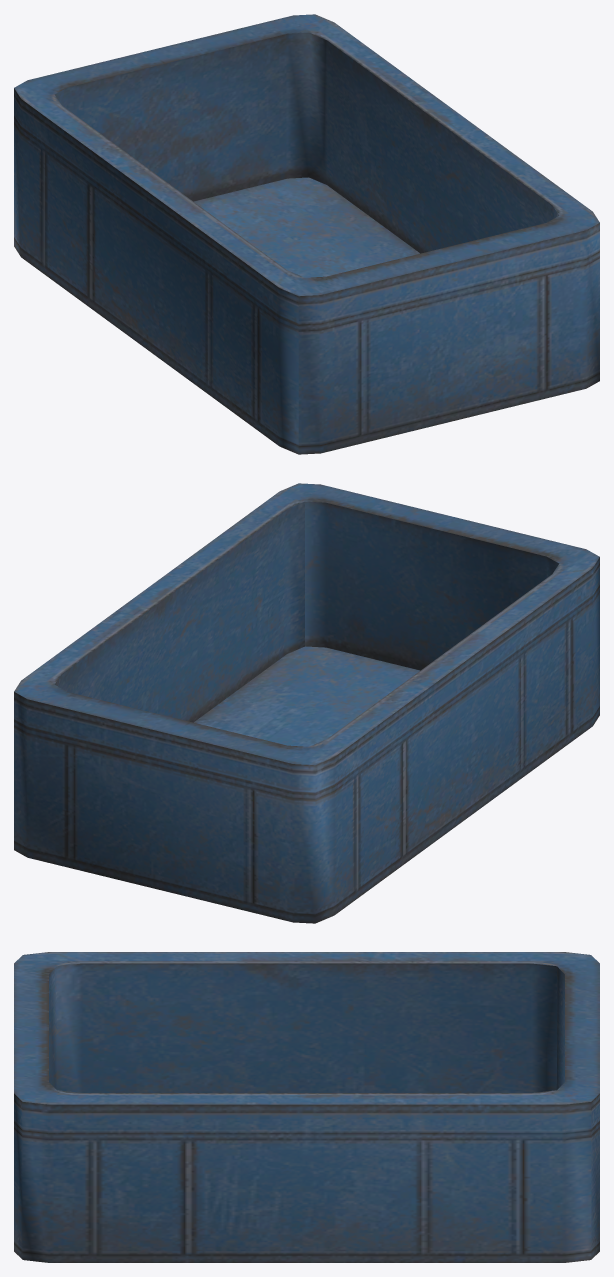
The model's file is Prop_Xz01.glb.
3 renders of one model, top to bottom at view 1: azimuth 30°, elevation 25°; view 2: azimuth 150°, elevation 25°; view 3: azimuth 270°, elevation 25°, orthographic.
Visible parts, largest first — view 1: xiutz_xz_01; view 2: xiutz_xz_01; view 3: xiutz_xz_01.
Boxes of the visible parts, bbox=[...] form: xiutz_xz_01: bbox=[14, 14, 599, 454]; xiutz_xz_01: bbox=[14, 483, 599, 923]; xiutz_xz_01: bbox=[14, 952, 599, 1262].
Bounding box in the file's own units: 0.8083 × 0.391 × 1.31.
Materials: 1 (1 with a texture image).
